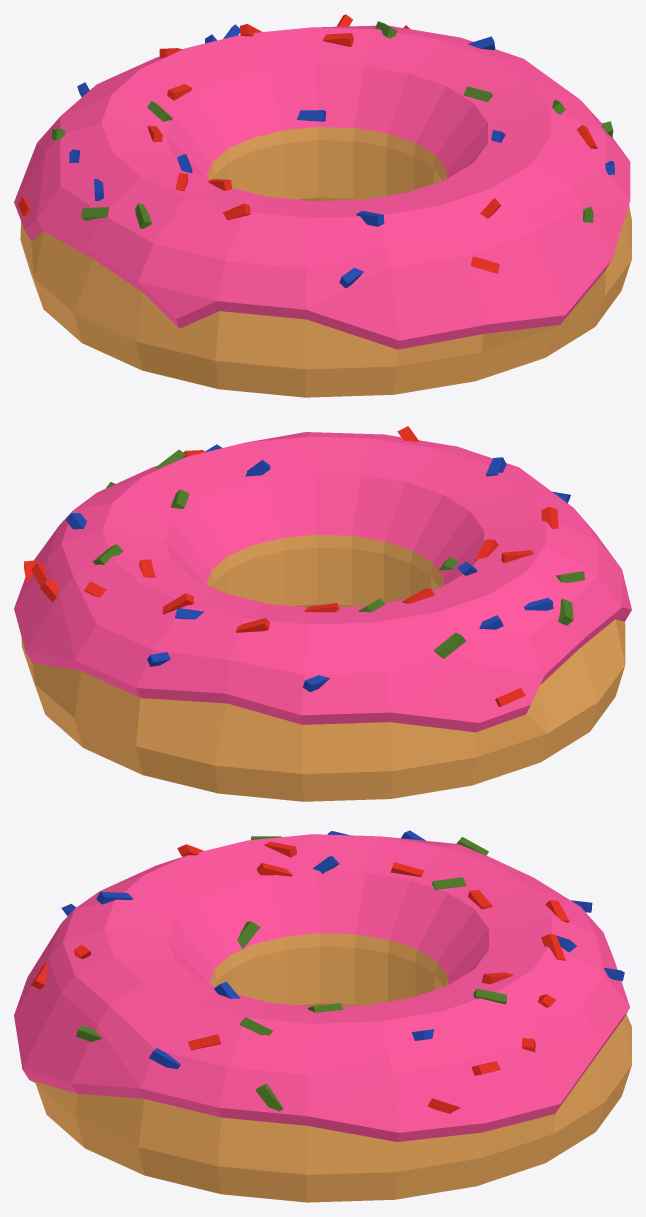
Rendered from Donut1.glb.
The picture shows the model from 3 angles, top to bottom: view 1: azimuth 30°, elevation 25°; view 2: azimuth 150°, elevation 25°; view 3: azimuth 270°, elevation 25°; orthographic projection.
Parts seen in each view (by area): view 1: Donut1; view 2: Donut1; view 3: Donut1.
Boxes of the visible parts, x1,y1,x2,y2 form: Donut1: [14, 14, 631, 397]; Donut1: [14, 426, 631, 801]; Donut1: [14, 830, 631, 1202].
Bounding box in the file's own units: 85.91 × 29.14 × 86.98.
